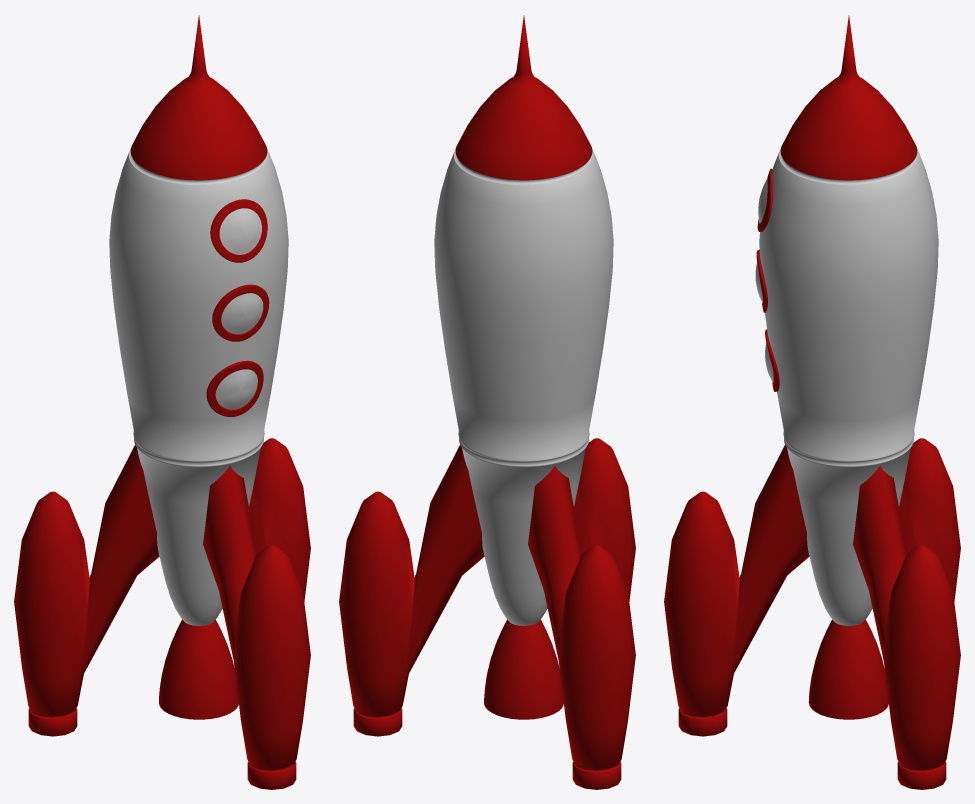
Rendered from Export_Rocket.obj.
The picture shows the model from 3 angles, left to right: view 1: azimuth 30°, elevation 25°; view 2: azimuth 150°, elevation 25°; view 3: azimuth 270°, elevation 25°; orthographic projection.
Parts seen in each view (by area): view 1: rocket_body retroFBXASC032rocket, rocket_body retroFBXASC032rocket lateral_engines small_engineFBX, rocket_body retroFBXASC032rocket small_engine HyperNURBSFBXASC04, rocket_body retroFBXASC032rocket main_engine, rocket_body retroFBXASC032rocket windows windowFBXASC032glass, rocket_body retroFBXASC032rocket windows; view 2: rocket_body retroFBXASC032rocket, rocket_body retroFBXASC032rocket lateral_engines small_engineFBX, rocket_body retroFBXASC032rocket main_engine, rocket_body retroFBXASC032rocket small_engine HyperNURBSFBXASC04; view 3: rocket_body retroFBXASC032rocket, rocket_body retroFBXASC032rocket lateral_engines small_engineFBX, rocket_body retroFBXASC032rocket small_engine HyperNURBSFBXASC04, rocket_body retroFBXASC032rocket main_engine, rocket_body retroFBXASC032rocket windows, rocket_body retroFBXASC032rocket windows windowFBXASC032glass.
Boxes of the visible parts, x1=… form: rocket_body retroFBXASC032rocket: x1=109, y1=15, x2=288, y2=625; rocket_body retroFBXASC032rocket lateral_engines small_engineFBX: x1=14, y1=438, x2=310, y2=736; rocket_body retroFBXASC032rocket small_engine HyperNURBSFBXASC04: x1=203, y1=465, x2=310, y2=789; rocket_body retroFBXASC032rocket main_engine: x1=159, y1=619, x2=238, y2=719; rocket_body retroFBXASC032rocket windows windowFBXASC032glass: x1=215, y1=208, x2=263, y2=409; rocket_body retroFBXASC032rocket windows: x1=206, y1=199, x2=269, y2=416; rocket_body retroFBXASC032rocket: x1=434, y1=15, x2=613, y2=625; rocket_body retroFBXASC032rocket lateral_engines small_engineFBX: x1=339, y1=445, x2=635, y2=789; rocket_body retroFBXASC032rocket main_engine: x1=484, y1=619, x2=563, y2=719; rocket_body retroFBXASC032rocket small_engine HyperNURBSFBXASC04: x1=574, y1=438, x2=635, y2=601; rocket_body retroFBXASC032rocket: x1=759, y1=15, x2=938, y2=625; rocket_body retroFBXASC032rocket lateral_engines small_engineFBX: x1=853, y1=438, x2=960, y2=789; rocket_body retroFBXASC032rocket small_engine HyperNURBSFBXASC04: x1=664, y1=445, x2=809, y2=736; rocket_body retroFBXASC032rocket main_engine: x1=808, y1=619, x2=888, y2=719; rocket_body retroFBXASC032rocket windows: x1=756, y1=168, x2=779, y2=391; rocket_body retroFBXASC032rocket windows windowFBXASC032glass: x1=755, y1=179, x2=773, y2=382.
Bounding box in the file's own units: 4.73 × 11.24 × 4.25.
